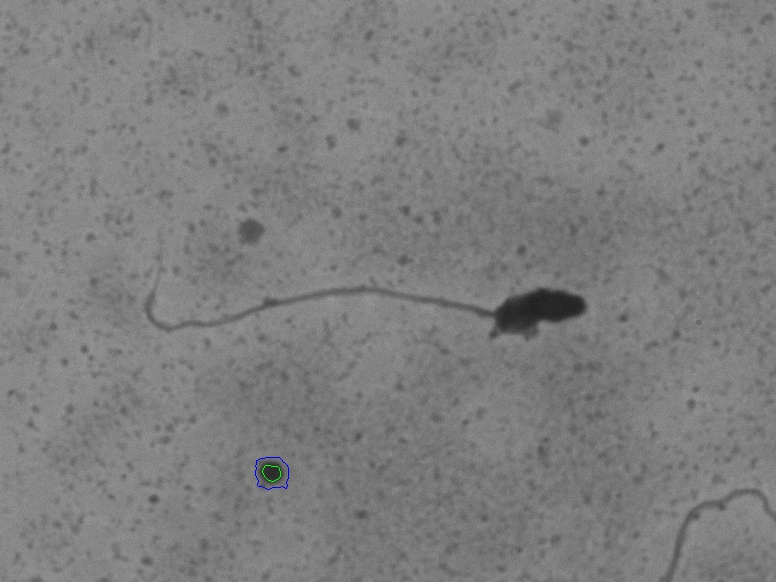Abnormal: (111, 203, 643, 421)
